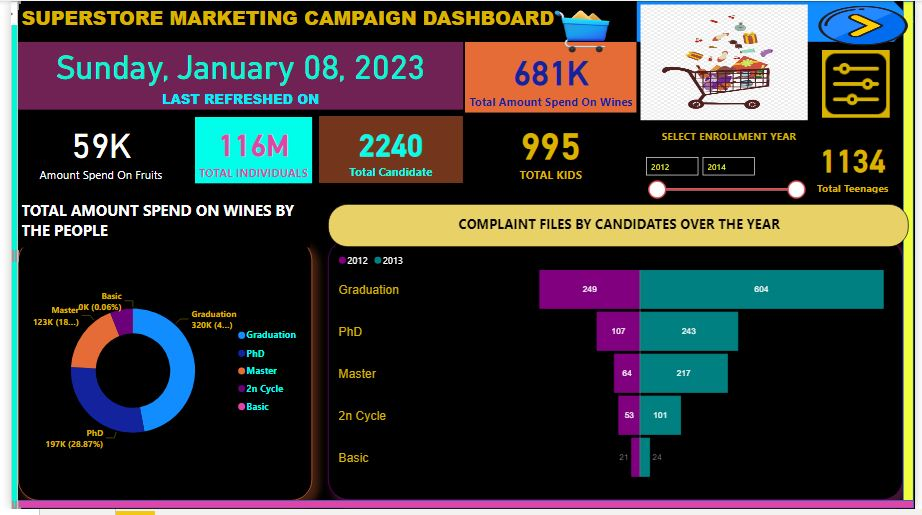

Layout of this report page (visuals, bound fields, positions):
{"tool":"powerbi","page":{"name":"Page 1","canvas":[1280,720],"ordinal":0},"visuals":[{"type":"donutChart","fields":{"Category":["Cleaned_sales_superstore.Education"],"Y":["ALL MEASURES AND CALCULATED COLUMN.Total Amount Spend On Wines"]},"box":[10,336.8,416.7,371],"z":0},{"type":"card","fields":{"Values":["ALL MEASURES AND CALCULATED COLUMN.Total Number Of Kids"]},"box":[643.6,161.2,242.6,97],"z":1000},{"type":"card","fields":{"Values":["ALL MEASURES AND CALCULATED COLUMN.Amount Spend On Fruits"]},"box":[9.9,161.6,235.3,97.8],"z":2000},{"type":"card","fields":{"Values":["ALL MEASURES AND CALCULATED COLUMN.Total Income Of All The Individuals"]},"box":[261.1,164.1,165.5,94.2],"z":3000},{"type":"card","fields":{"Values":["ALL MEASURES AND CALCULATED COLUMN.Total Amount Spend On Wines"]},"box":[643.6,58.5,242.6,99.9],"z":4000},{"type":"shape","title":"Shape","box":[0,0,1280,58.1],"z":5000},{"type":"shape","box":[0,0,10.3,721.2],"z":6000},{"type":"card","fields":{"Values":["ALL MEASURES AND CALCULATED COLUMN.Total Teenages"]},"box":[1109.1,188,165.8,88.9],"z":7000},{"type":"card","fields":{"Values":["ALL MEASURES AND CALCULATED COLUMN.Total Candidate"]},"box":[436.5,163,204.1,95],"z":8000},{"type":"card","fields":{"Values":["Min(REFRESH DATE.Date)"]},"box":[10.3,51.3,630.6,102.5],"z":9000},{"type":"textbox","box":[10.3,0,876.7,58.1],"z":10000},{"type":"TornadoChart1452517688218","fields":{"Series":["Cleaned_sales_superstore.Enrolment Year"],"Category":["Cleaned_sales_superstore.Education"],"Values":["CountNonNull(Cleaned_sales_superstore.COMPLAINTS)"]},"box":[449.3,337.3,815,369.9],"z":11000},{"type":"shape","box":[1264.6,0,15.4,719.5],"z":12000},{"type":"shape","box":[0,707.5,1280,12],"z":13000},{"type":"image","box":[1134.7,0,145.3,70.1],"z":14000},{"type":"image","box":[1150.1,70.1,95.7,95.7],"z":15000},{"type":"image","box":[887.6,0,246.9,174.1],"z":16000},{"type":"slicer","fields":{"Values":["Cleaned_sales_superstore.Enrolment Year"]},"box":[887.6,211.2,246.9,77.1],"z":17000},{"type":"textbox","box":[901.9,175.5,232.6,40],"z":18000},{"type":"textbox","box":[10,276.8,413.8,72.8],"z":19000},{"type":"image","box":[765.4,0,92.1,83.6],"z":20000},{"type":"textbox","box":[449.3,287.7,823.5,60.9],"z":21000}]}

Visuals, with their boxes in screenshot pixels (x1, y1, x2, y2), scaled from the page's 1280x720 canvas onto the 922x515 screenshot:
donutChart - Cleaned_sales_superstore.Education x ALL MEASURES AND CALCULATED COLUMN.Total Amount Spend On Wines: (x1=7, y1=241, x2=307, y2=506)
card - ALL MEASURES AND CALCULATED COLUMN.Total Number Of Kids: (x1=464, y1=115, x2=638, y2=185)
card - ALL MEASURES AND CALCULATED COLUMN.Amount Spend On Fruits: (x1=7, y1=116, x2=177, y2=186)
card - ALL MEASURES AND CALCULATED COLUMN.Total Income Of All The Individuals: (x1=188, y1=117, x2=307, y2=185)
card - ALL MEASURES AND CALCULATED COLUMN.Total Amount Spend On Wines: (x1=464, y1=42, x2=638, y2=113)
"Shape" shape: (x1=0, y1=0, x2=921, y2=42)
shape: (x1=0, y1=0, x2=7, y2=514)
card - ALL MEASURES AND CALCULATED COLUMN.Total Teenages: (x1=799, y1=134, x2=918, y2=198)
card - ALL MEASURES AND CALCULATED COLUMN.Total Candidate: (x1=314, y1=117, x2=461, y2=185)
card - Min(REFRESH DATE.Date): (x1=7, y1=37, x2=462, y2=110)
textbox: (x1=7, y1=0, x2=639, y2=42)
TornadoChart1452517688218 - Cleaned_sales_superstore.Enrolment Year x Cleaned_sales_superstore.Education: (x1=324, y1=241, x2=911, y2=506)
shape: (x1=911, y1=0, x2=921, y2=514)
shape: (x1=0, y1=506, x2=921, y2=514)
image: (x1=817, y1=0, x2=921, y2=50)
image: (x1=828, y1=50, x2=897, y2=119)
image: (x1=639, y1=0, x2=817, y2=125)
slicer - Cleaned_sales_superstore.Enrolment Year: (x1=639, y1=151, x2=817, y2=206)
textbox: (x1=650, y1=126, x2=817, y2=154)
textbox: (x1=7, y1=198, x2=305, y2=250)
image: (x1=551, y1=0, x2=618, y2=60)
textbox: (x1=324, y1=206, x2=917, y2=249)
